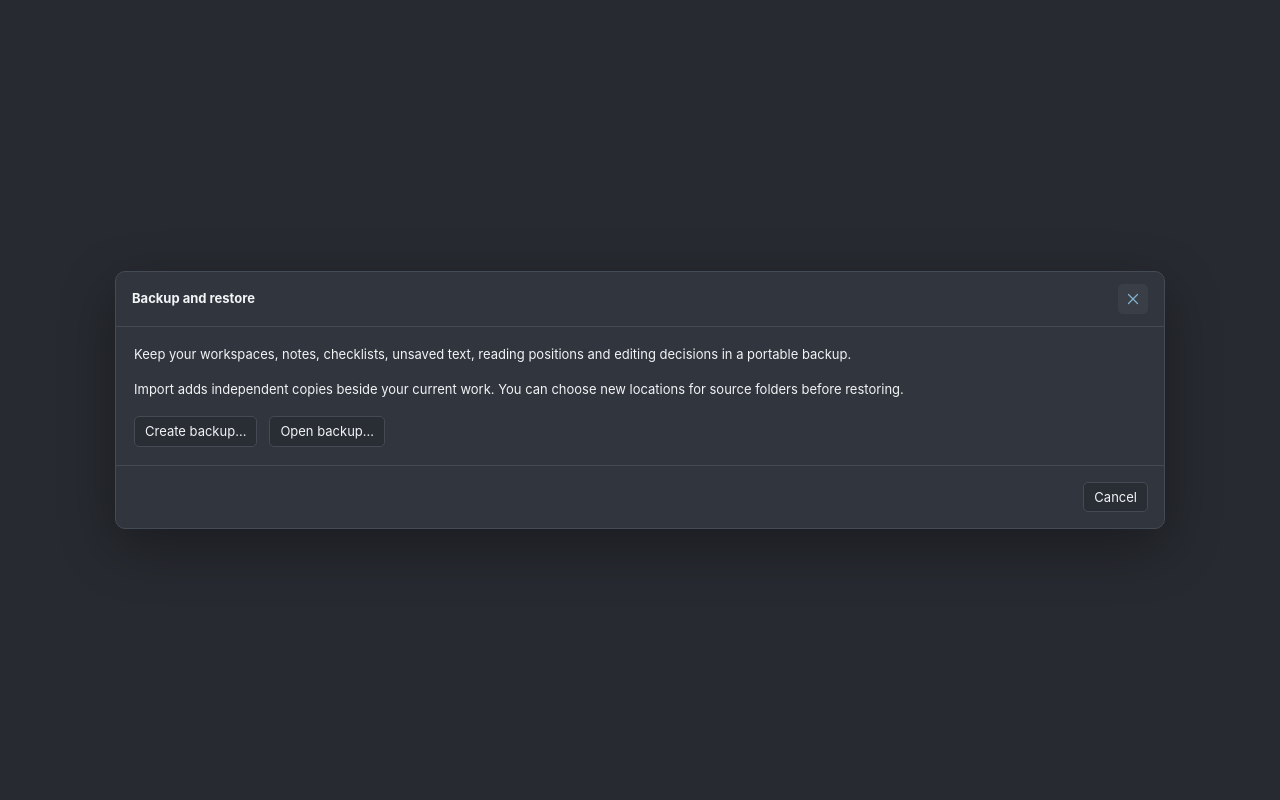
Scenario: backs up an empty workspace with retained documents without requiring a mounted engine
What coordinates should you click on to do the following:
click the button "Create backup…"
I would click on:
 (196, 431)
Its box is [134,416,257,446].
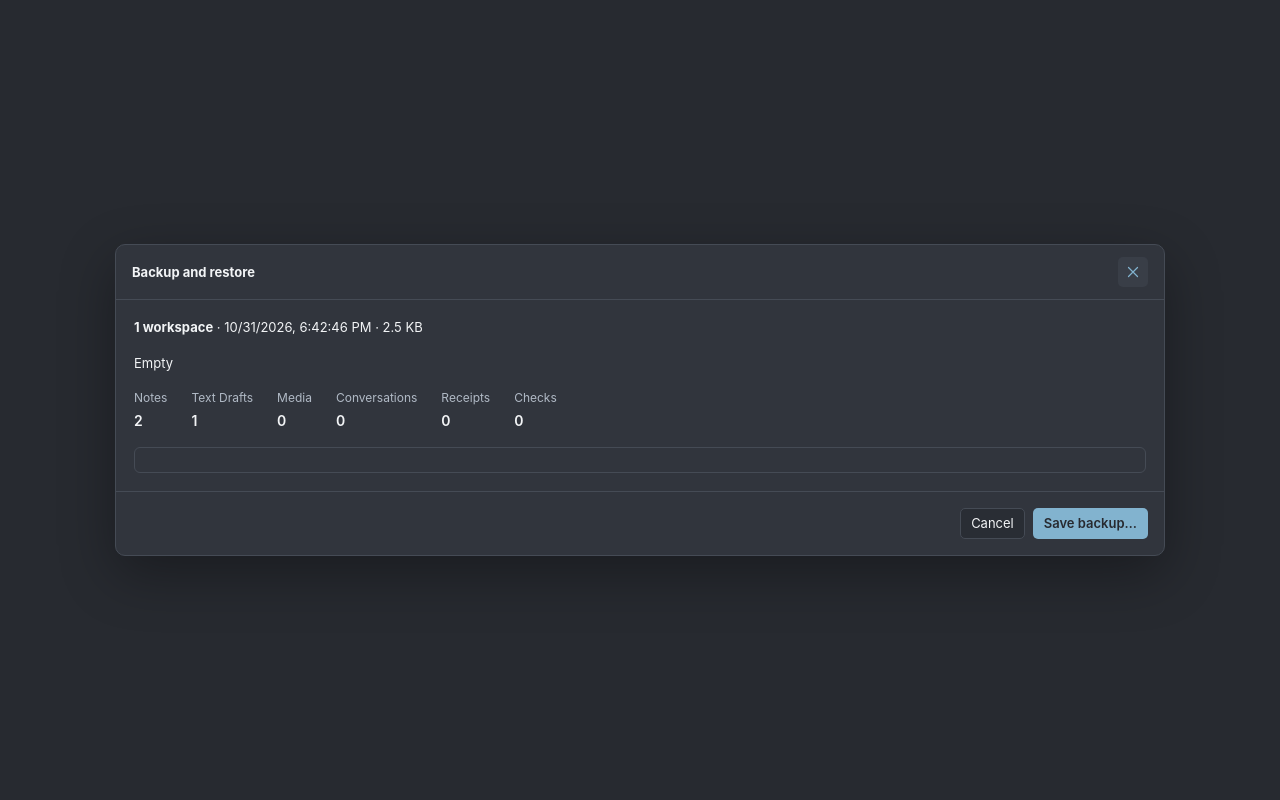
Expected: the text "1 workspace" is shown, [134,319,213,335]
